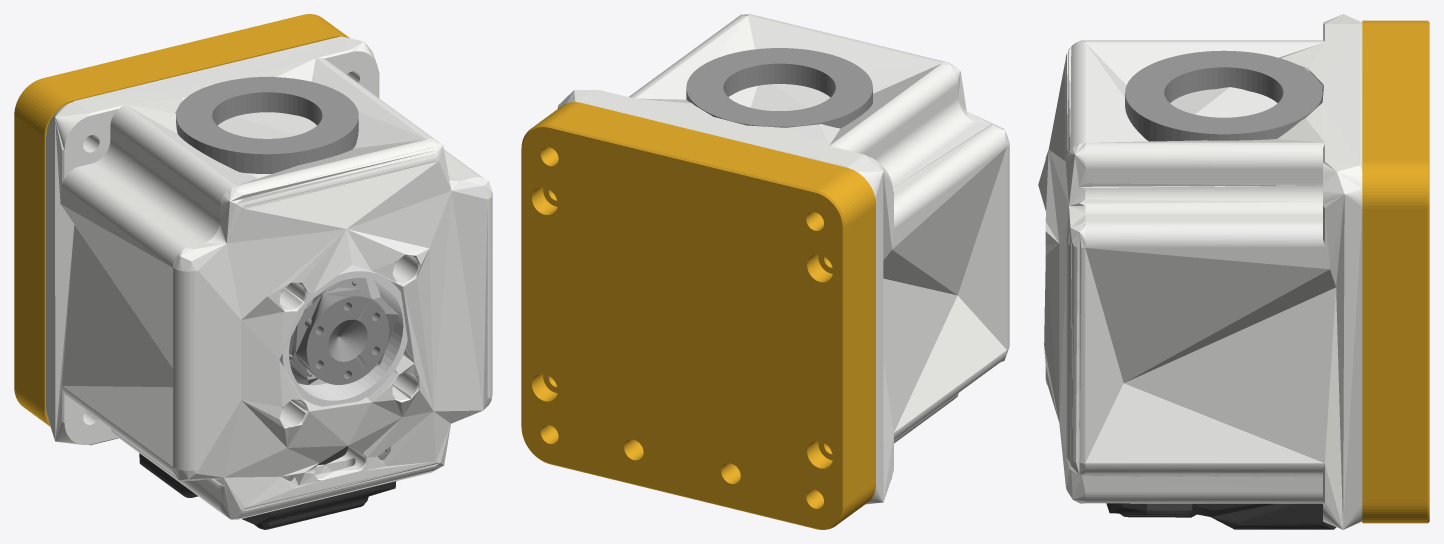
Rendered from full_step_base-colors.obj.
3 views of the same model, side by side, from view 1: azimuth 30°, elevation 25°; view 2: azimuth 150°, elevation 25°; view 3: azimuth 270°, elevation 25° (orthographic). The views are drawn at different scales.
Bounding box in the file's own units: 101 × 114 × 98.89.
